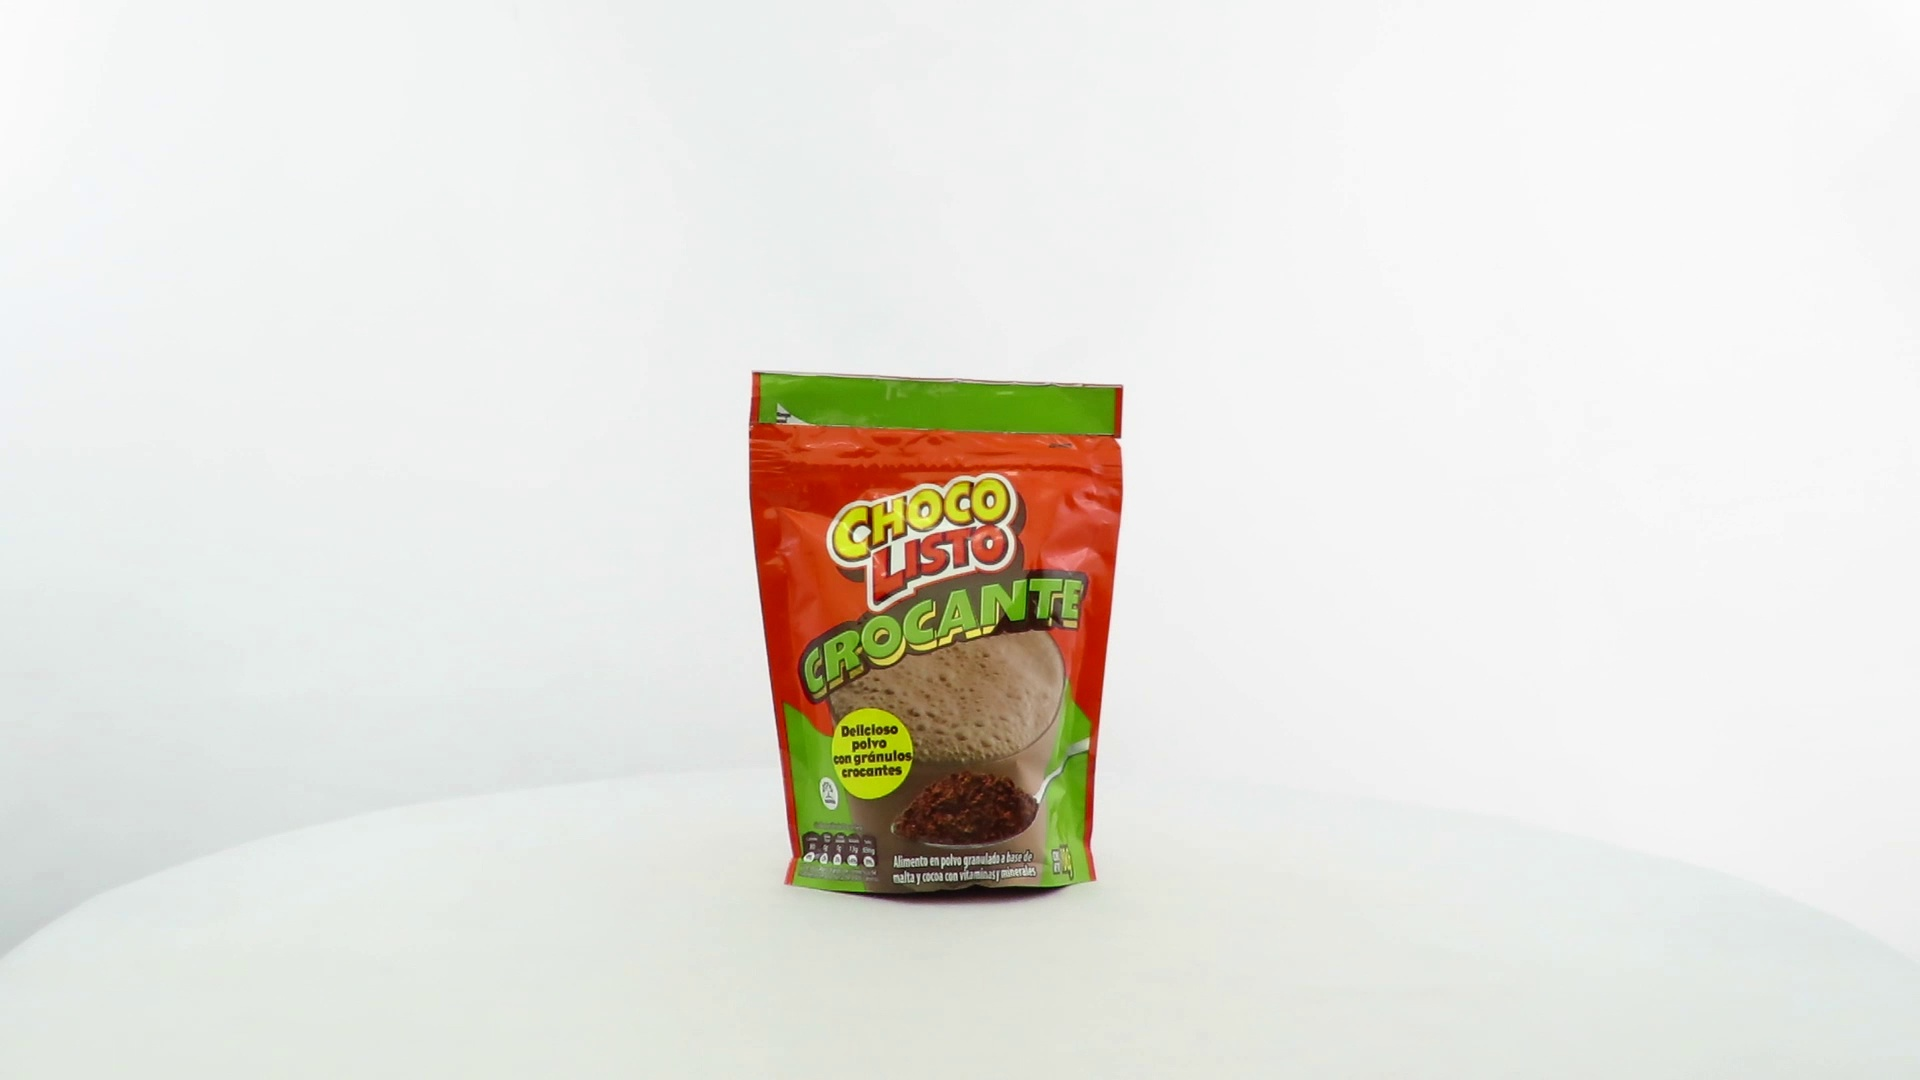COL0170102DYP10000: (742, 365, 1130, 911)
